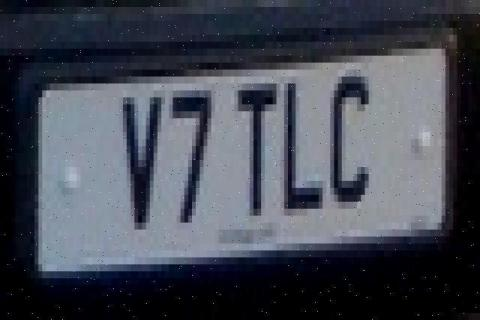LicensePlate: (17, 26, 466, 302)
